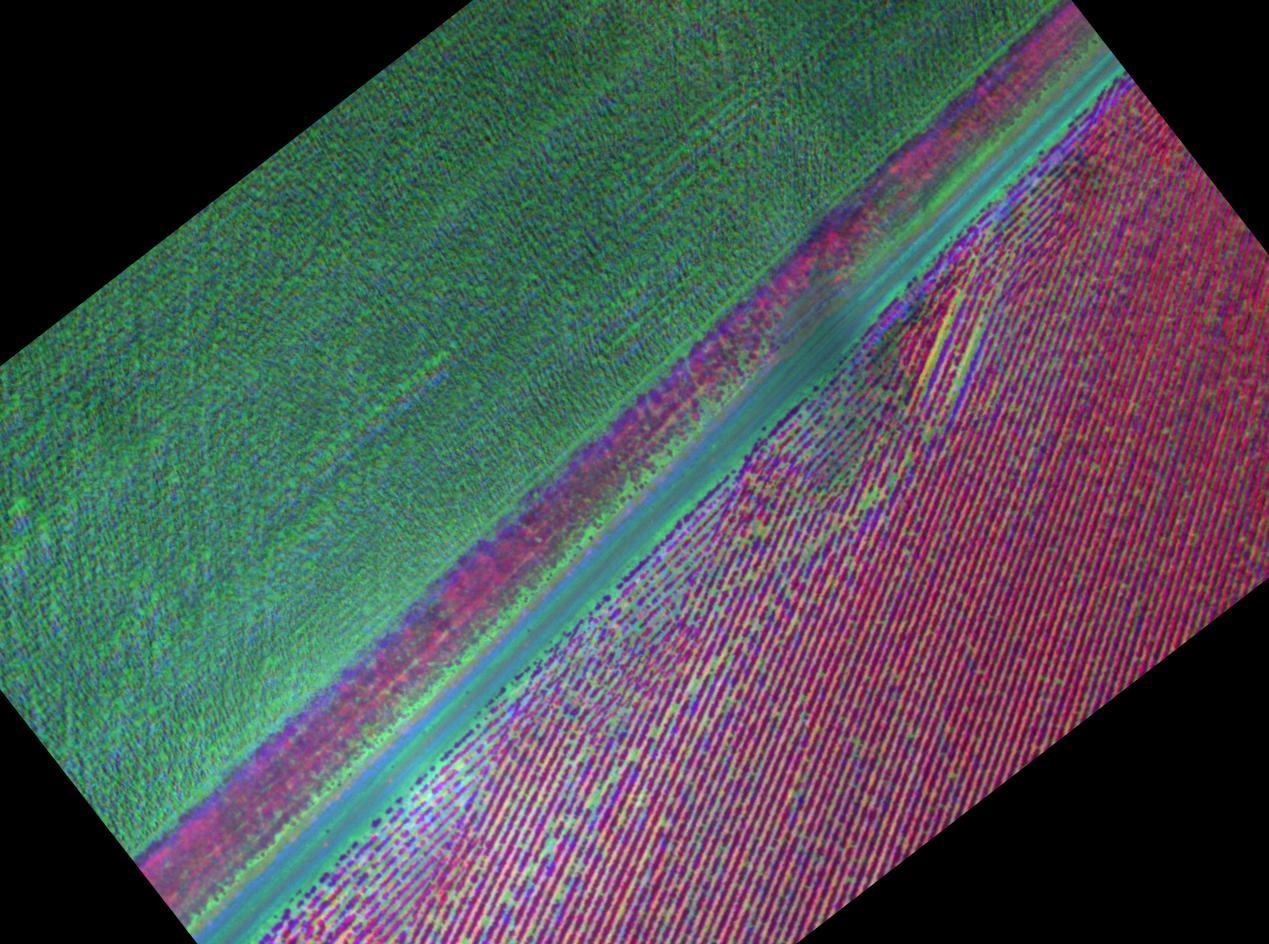dc: (865, 498, 870, 503), (809, 545, 814, 550), (424, 794, 429, 799), (712, 662, 717, 666), (411, 828, 416, 832), (652, 730, 656, 734)
